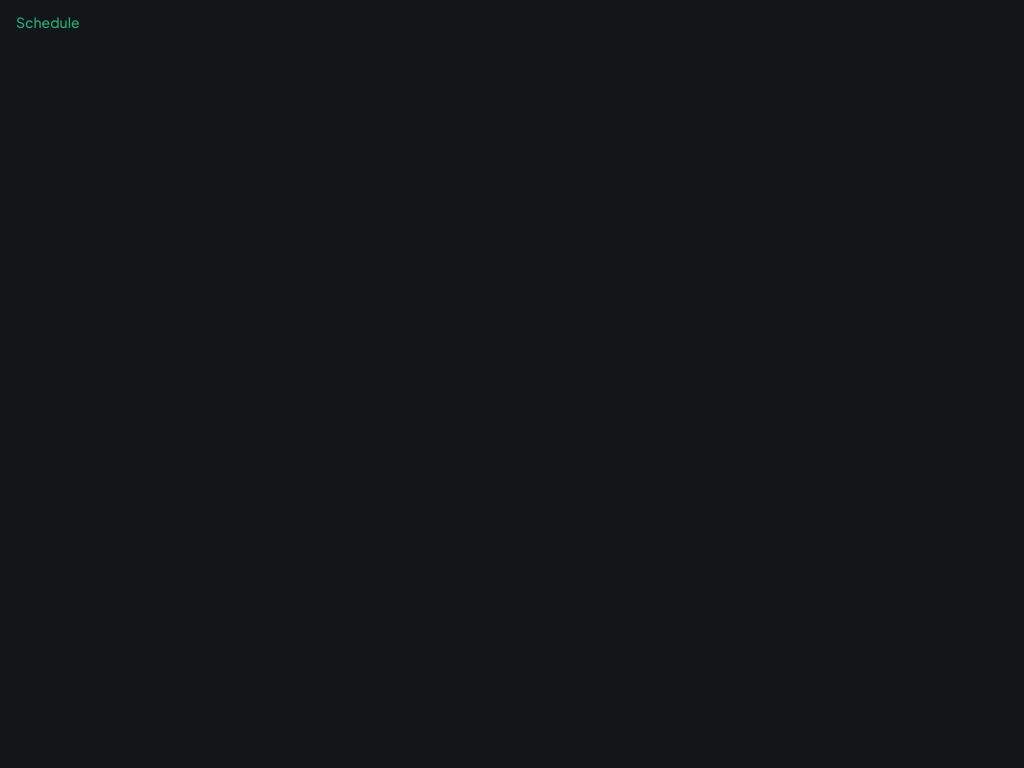
Test: AppointmentModal › UI-08 schedule opens with the right title
This screenshot has width=1024, height=768.
Click the button "schedule".
click(48, 22)  # box [0, 0, 96, 44]
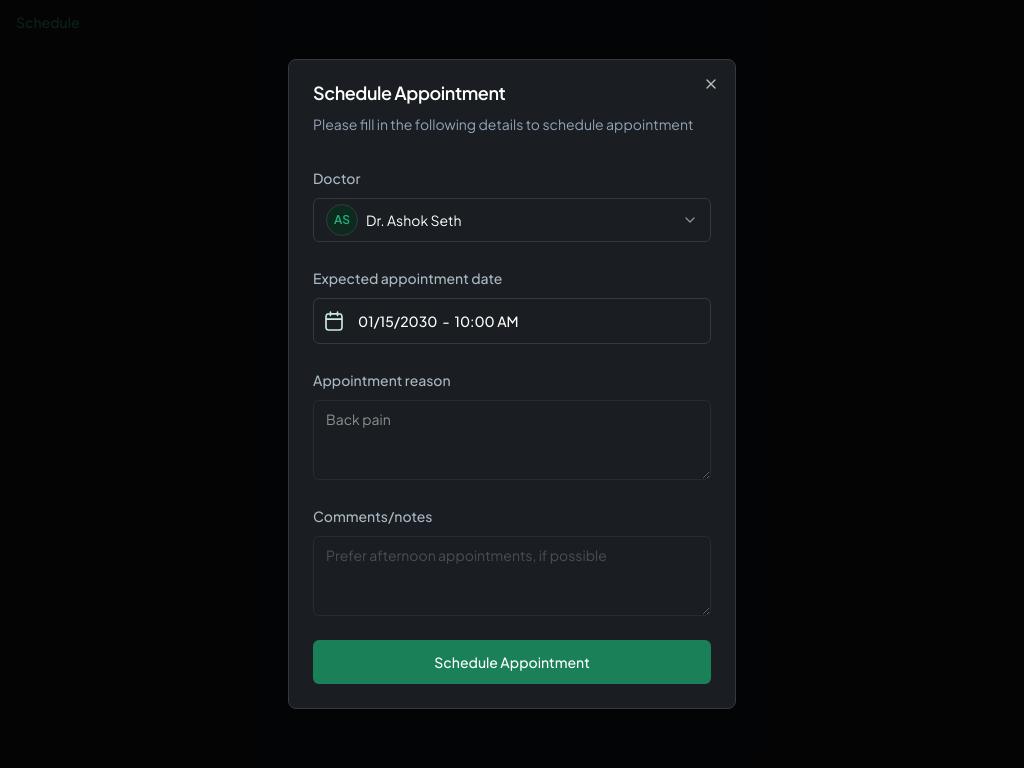
expect the heading "schedule Appointment" is shown: met, box [313, 81, 505, 104]
